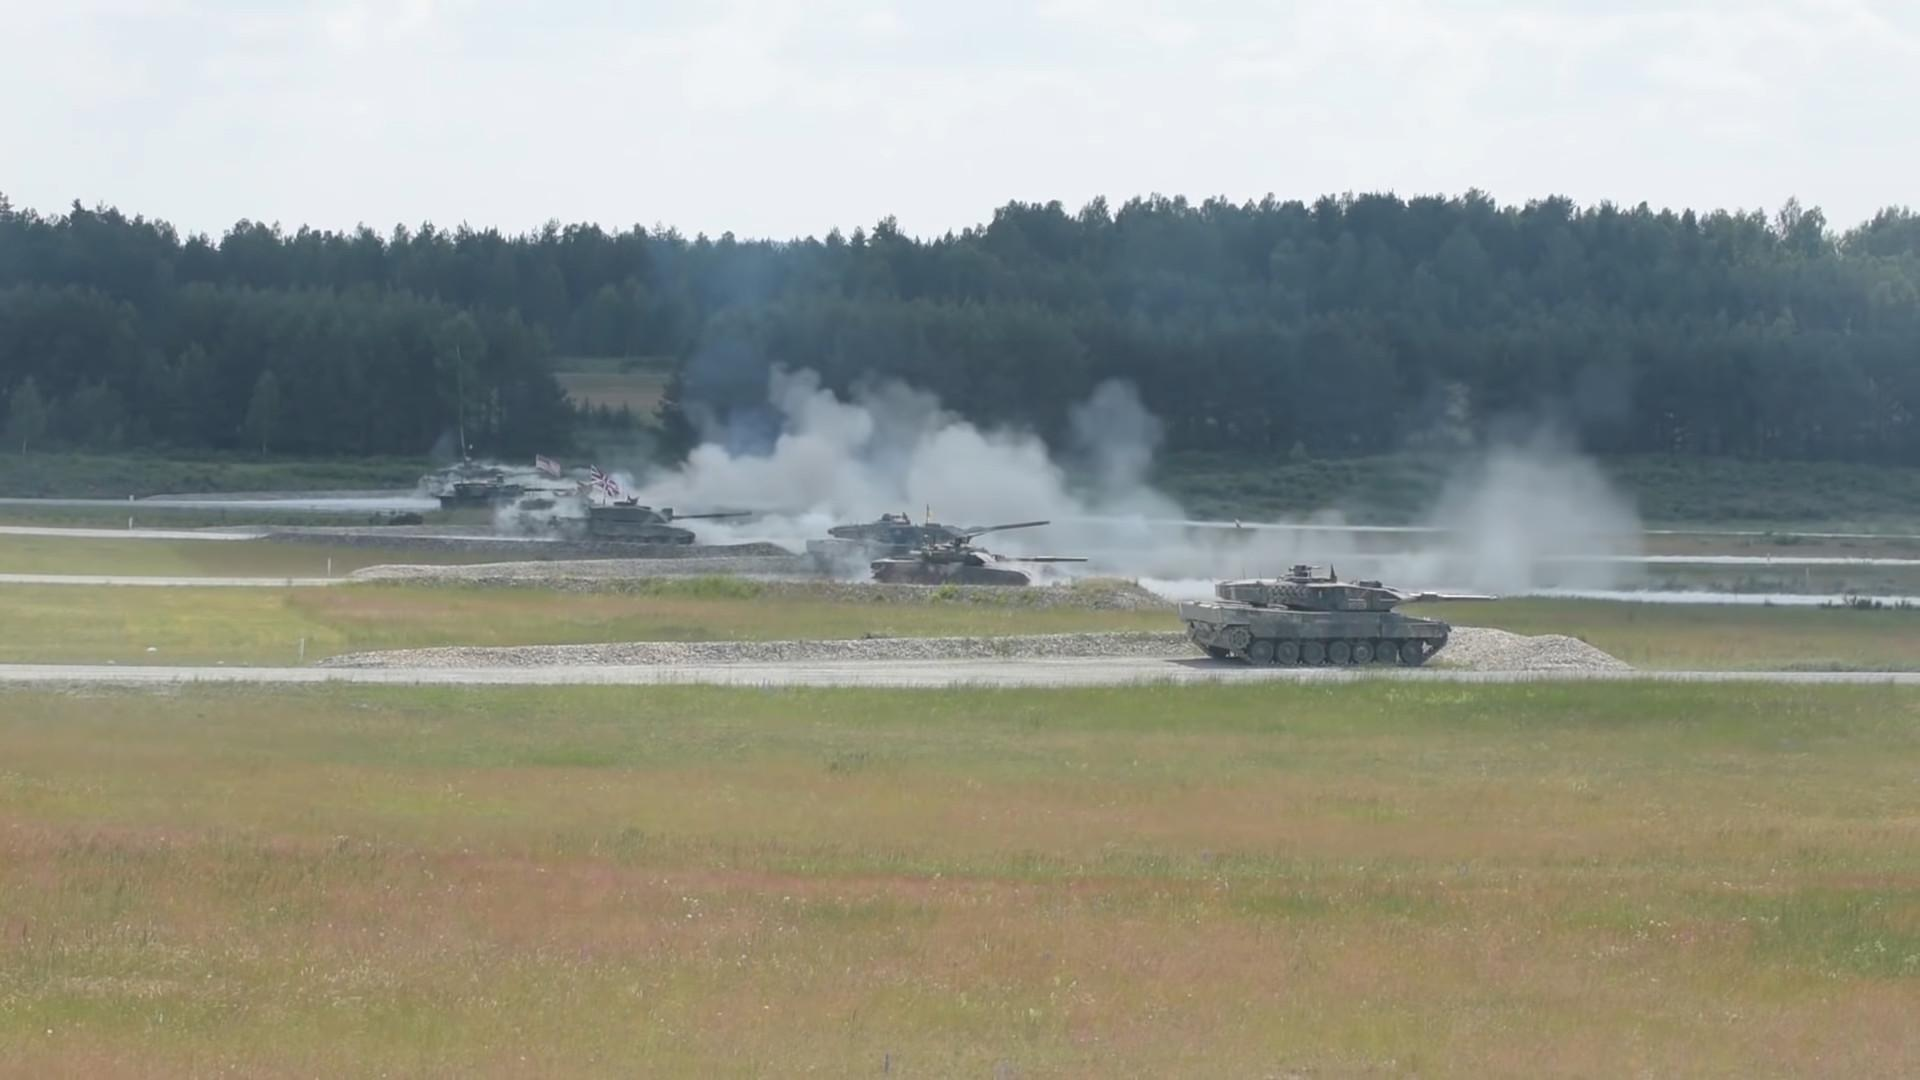tank: (1176, 564, 1499, 670), (550, 496, 752, 545), (868, 541, 1089, 584)
